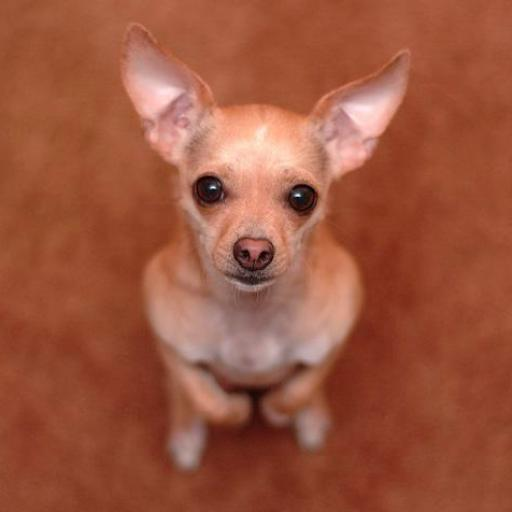dog_face: (116, 21, 410, 288)
